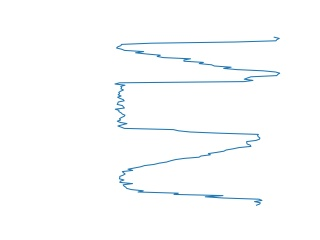distributaryChannelFill: (110, 71, 263, 144)
mouthBar: (111, 33, 283, 76)
underwaterDistributaryChannel: (113, 137, 264, 207)
